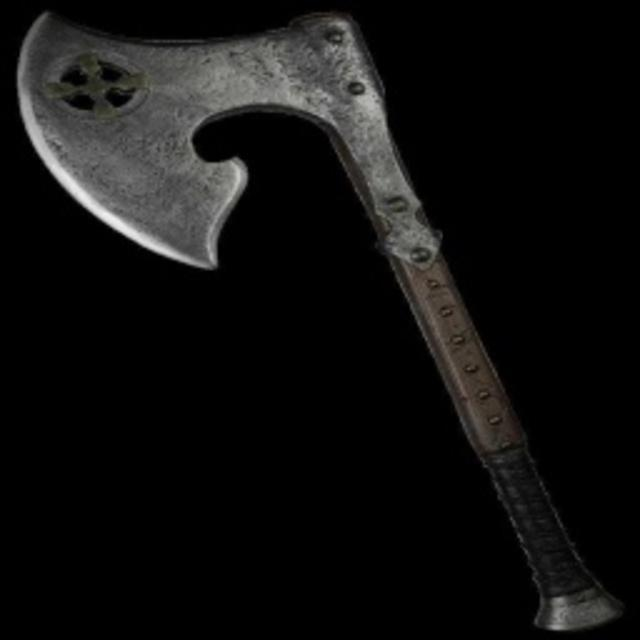ax: (17, 4, 629, 640)
